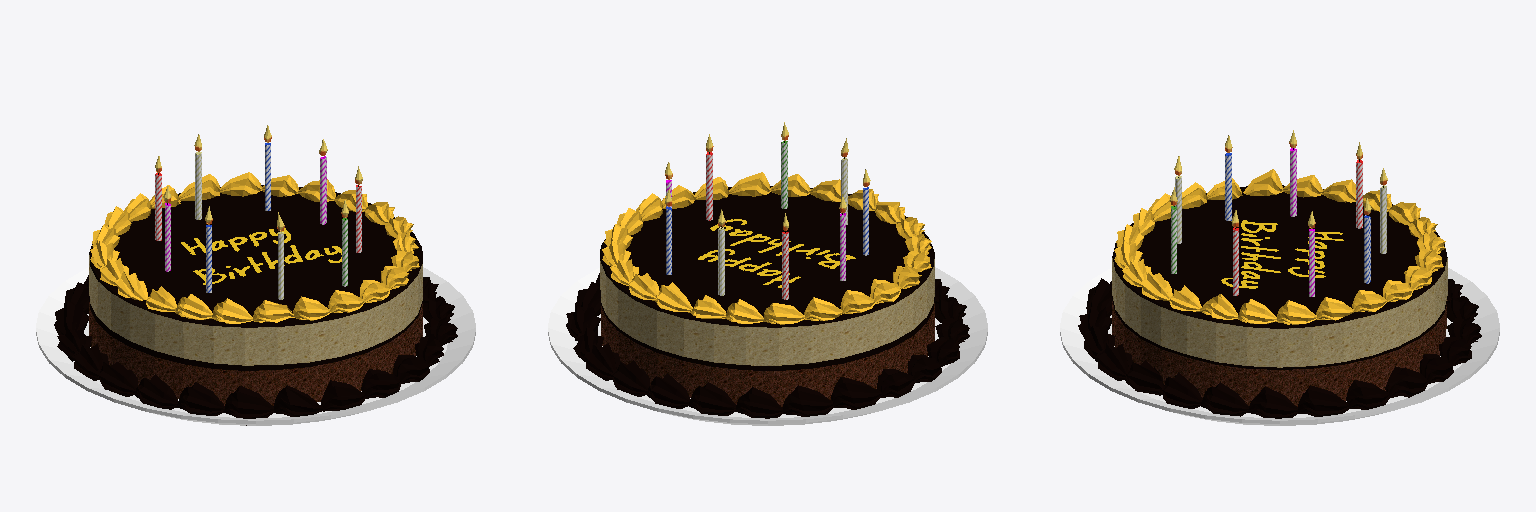
The picture shows the model from 3 angles: view 1: azimuth 30°, elevation 25°; view 2: azimuth 150°, elevation 25°; view 3: azimuth 270°, elevation 25°; orthographic projection.
Visible parts, largest first — view 1: cake_Cylinder, cream_Circle.001, yellow-cream_Circle, dish_Cylinder.028, Plane; view 2: cake_Cylinder, cream_Circle.001, yellow-cream_Circle, dish_Cylinder.028, Plane; view 3: cake_Cylinder, cream_Circle.001, yellow-cream_Circle, dish_Cylinder.028, Plane.
Part boxes in pixels (x1,y1,x2,y2): cake_Cylinder: (89, 185, 422, 405); cream_Circle.001: (54, 275, 457, 425); yellow-cream_Circle: (90, 172, 419, 323); dish_Cylinder.028: (36, 267, 475, 425); Plane: (181, 228, 341, 284); cake_Cylinder: (600, 186, 934, 406); cream_Circle.001: (566, 273, 969, 418); yellow-cream_Circle: (602, 172, 931, 324); dish_Cylinder.028: (548, 267, 987, 425); Plane: (698, 219, 855, 287); cake_Cylinder: (1112, 185, 1447, 406); cream_Circle.001: (1078, 278, 1481, 418); yellow-cream_Circle: (1114, 169, 1445, 324); dish_Cylinder.028: (1060, 268, 1499, 425); Plane: (1221, 220, 1343, 288).
Bounding box in the file's own units: 1 × 0.4425 × 1.
9 materials, 5 textured.